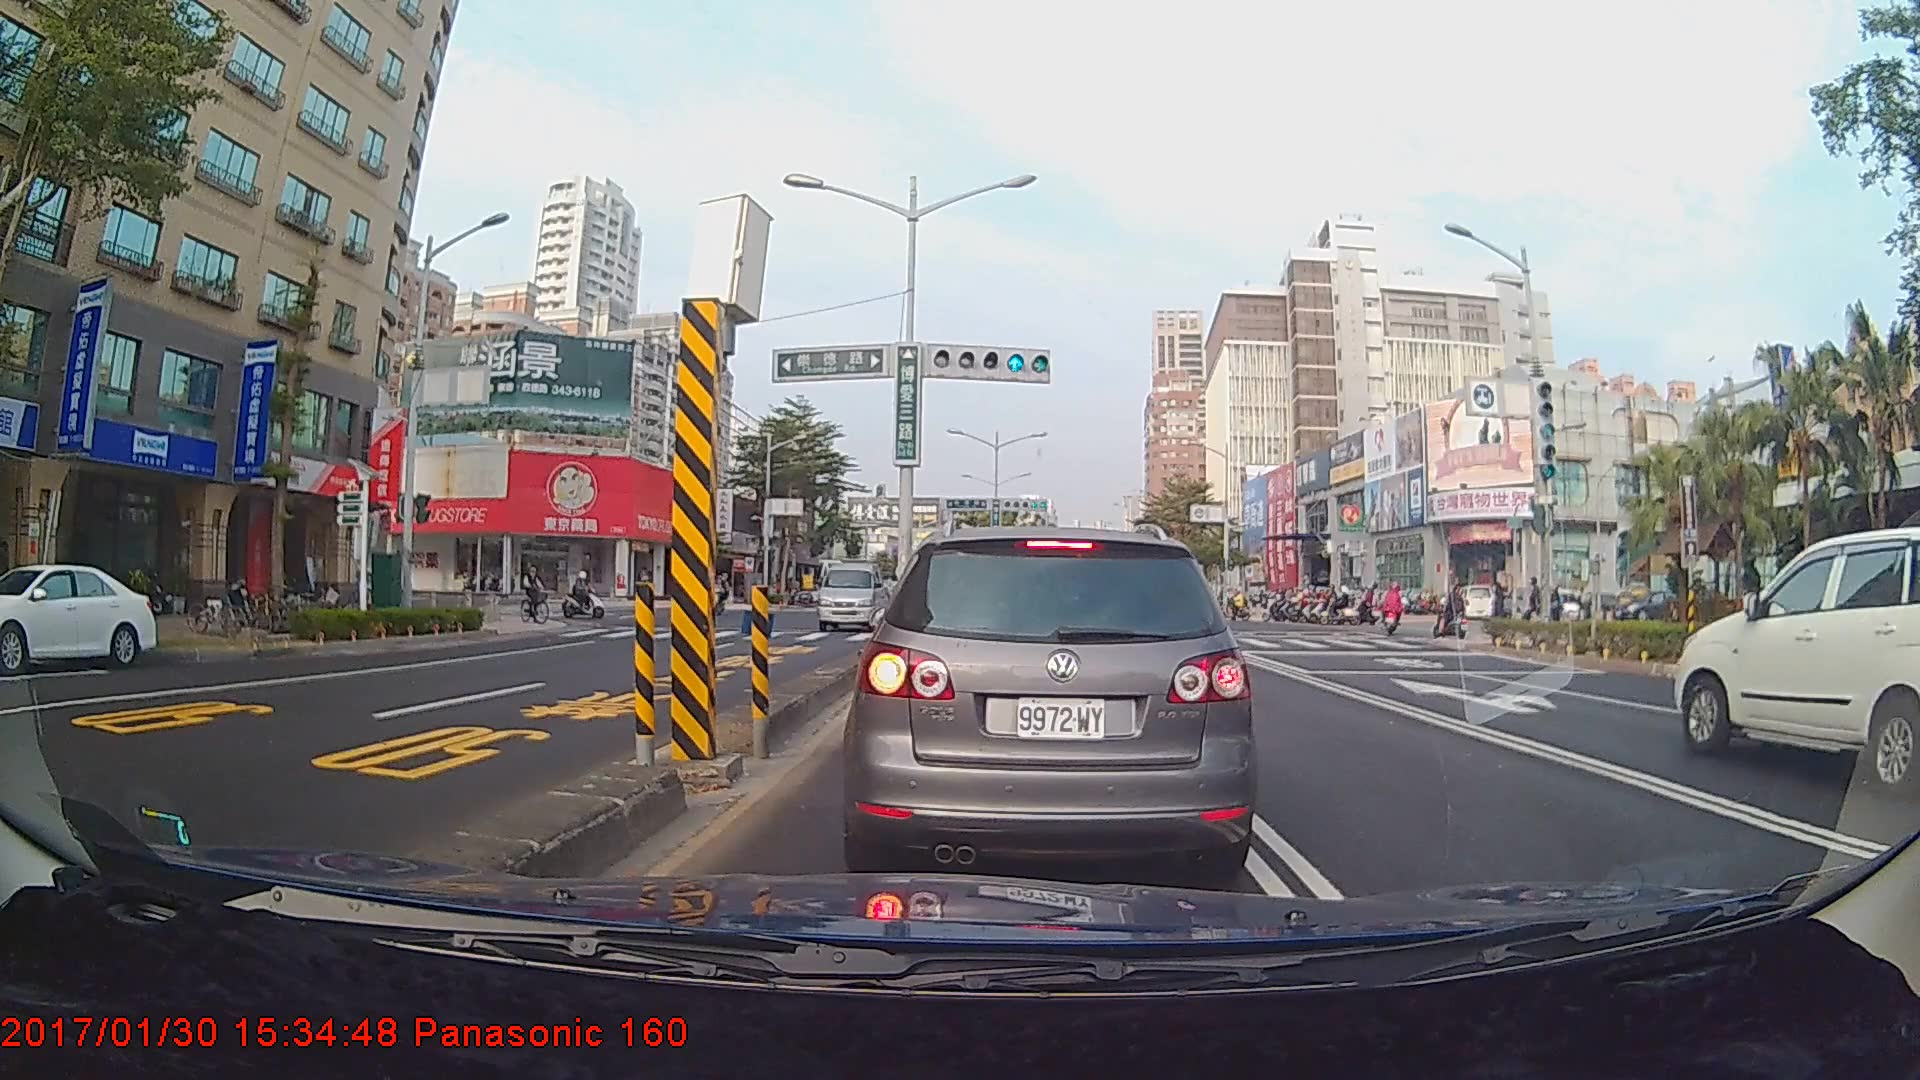pedestrian: (1491, 579, 1514, 637)
rider: (563, 568, 615, 625), (518, 559, 558, 629), (1436, 582, 1473, 646), (1383, 580, 1410, 640)
vehicle: (855, 522, 1250, 876), (1674, 523, 1920, 805), (0, 561, 159, 671), (815, 552, 887, 632)
